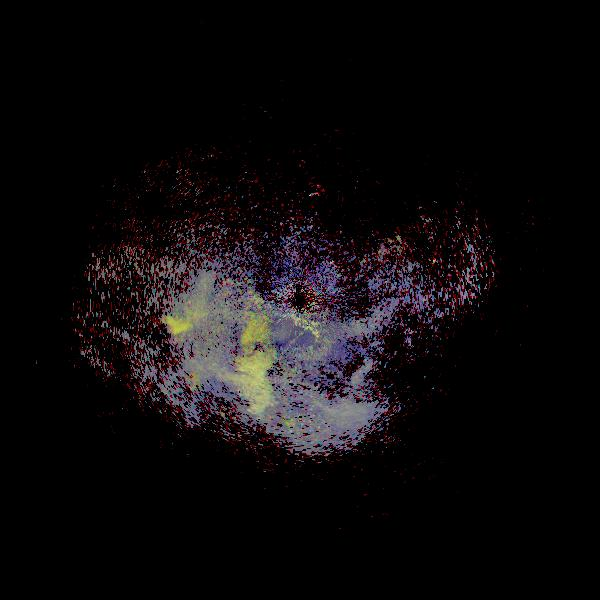roost: (81, 293, 222, 434)
